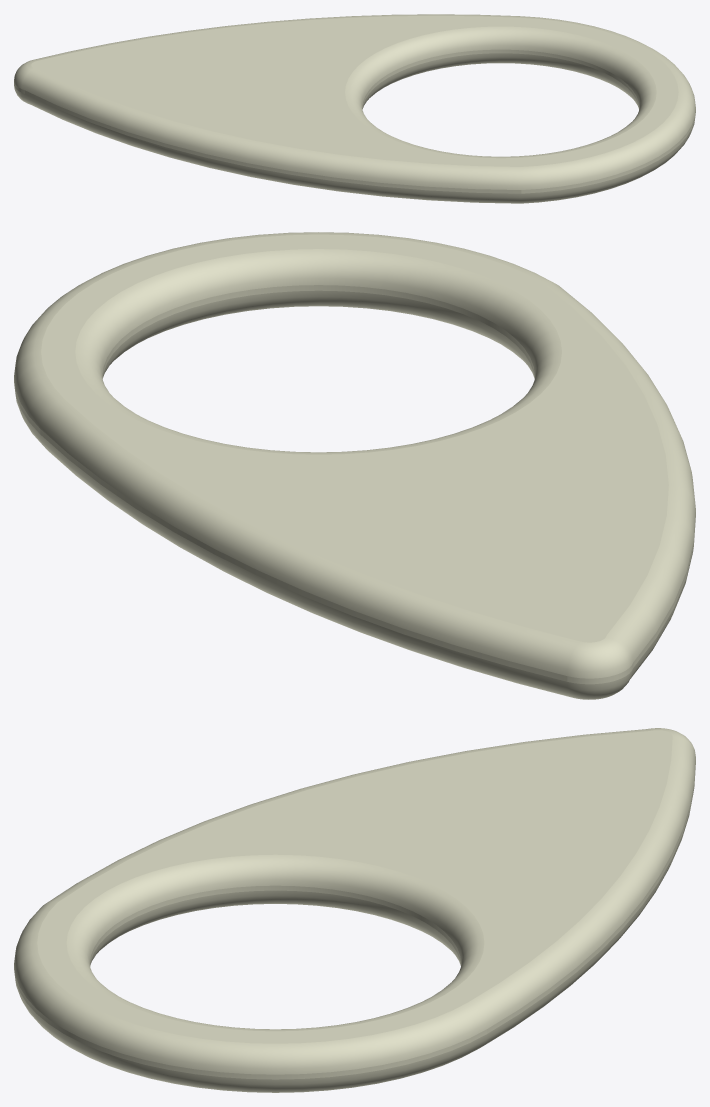
The model's file is original-8.obj.
3 views of the same model, one above another, from view 1: azimuth 30°, elevation 25°; view 2: azimuth 150°, elevation 25°; view 3: azimuth 270°, elevation 25° (orthographic). The views are drawn at different scales.
Visible parts, largest first — view 1: Component_8_2/Component_8_1_2/mesh7/mesh7-geometry#mesh7-geometr; view 2: Component_8_2/Component_8_1_2/mesh7/mesh7-geometry#mesh7-geometr; view 3: Component_8_2/Component_8_1_2/mesh7/mesh7-geometry#mesh7-geometr.
Part boxes in pixels (left/top/right/bottom): Component_8_2/Component_8_1_2/mesh7/mesh7-geometry#mesh7-geometr: left=14, top=14, right=695, bottom=203; Component_8_2/Component_8_1_2/mesh7/mesh7-geometry#mesh7-geometr: left=14, top=232, right=695, bottom=699; Component_8_2/Component_8_1_2/mesh7/mesh7-geometry#mesh7-geometr: left=14, top=728, right=695, bottom=1092.
Size of the model in its own units: 0.5958 by 0.0392 by 0.5152.
